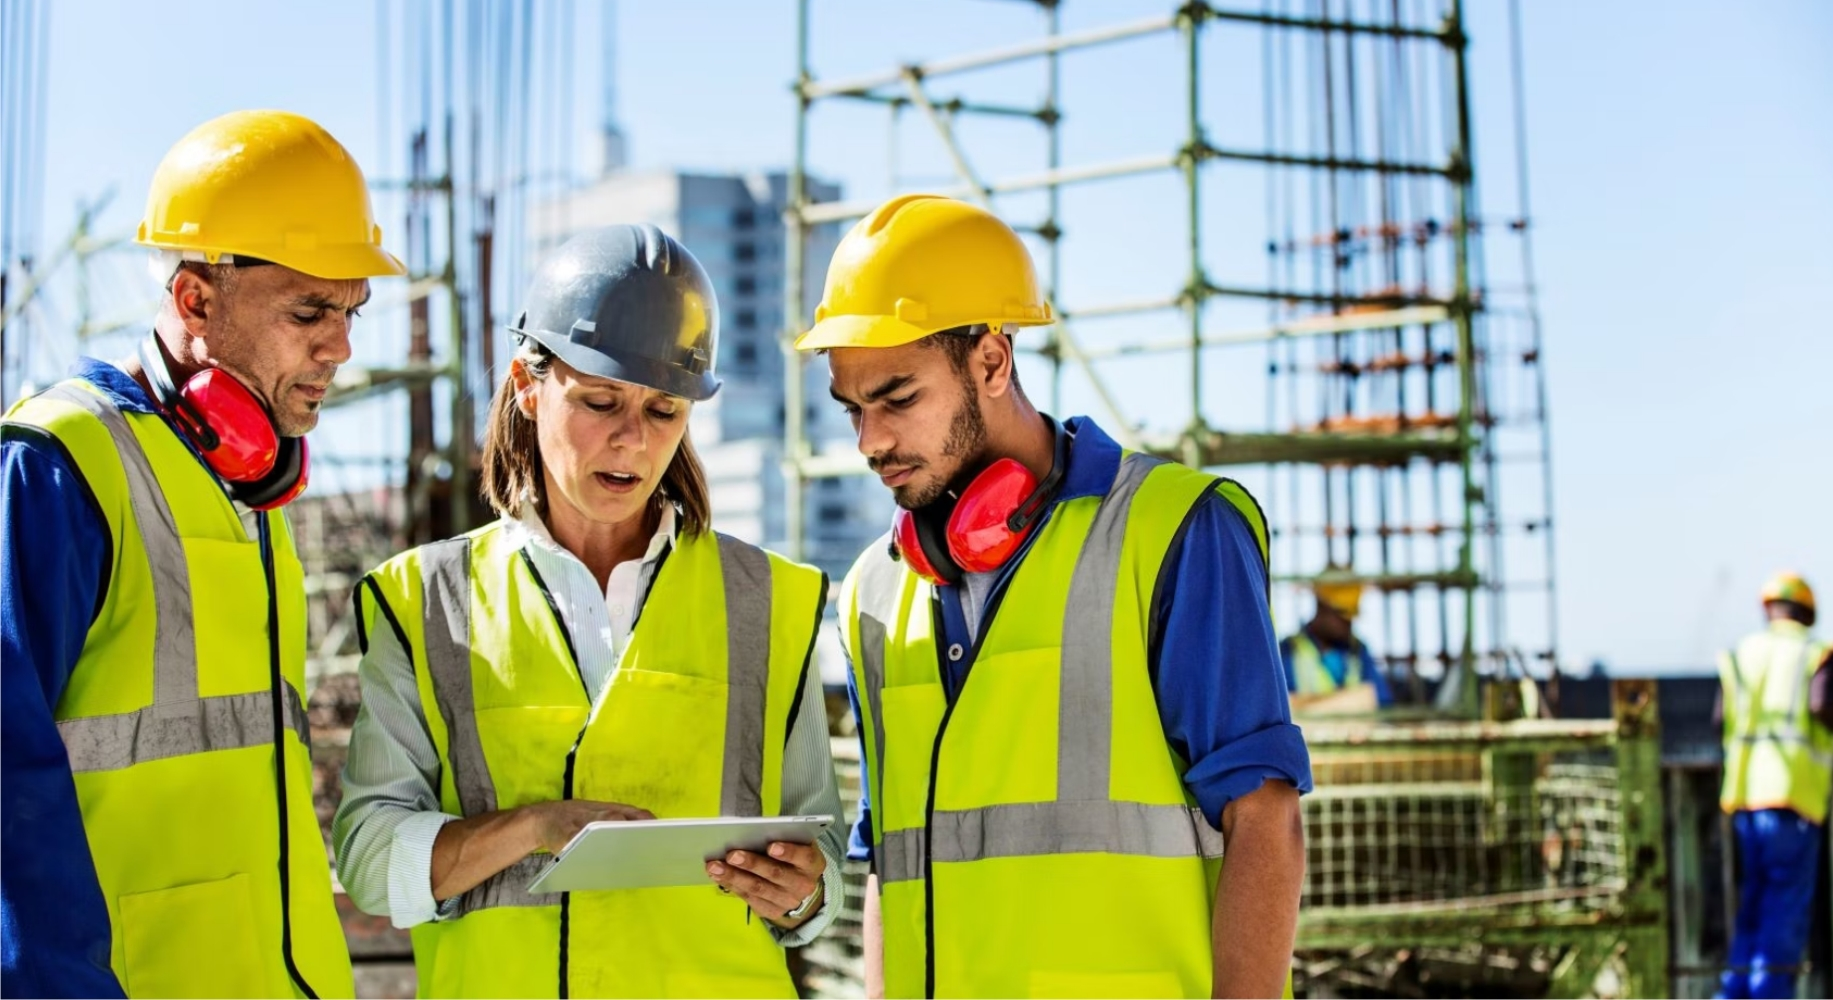cap: (495, 200, 790, 408), (123, 100, 443, 289), (796, 186, 1092, 353)
jacket: (828, 482, 1291, 1000), (350, 536, 856, 1000), (7, 361, 355, 1000)
